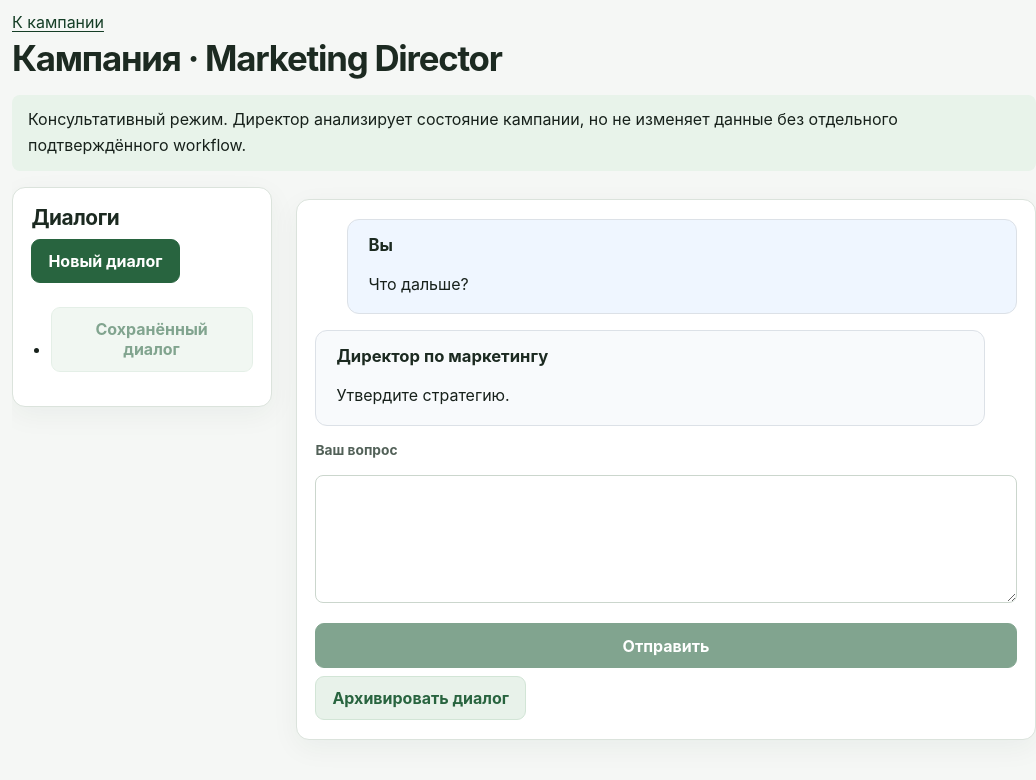
Test: archives own dialog and keeps readable history
This screenshot has width=1036, height=780.
expect the text "Утвердите стратегию." is shown: met, box [336,385,510,405]
Click the button "Архивировать диалог" at (421, 698), box [315,676,526,720]
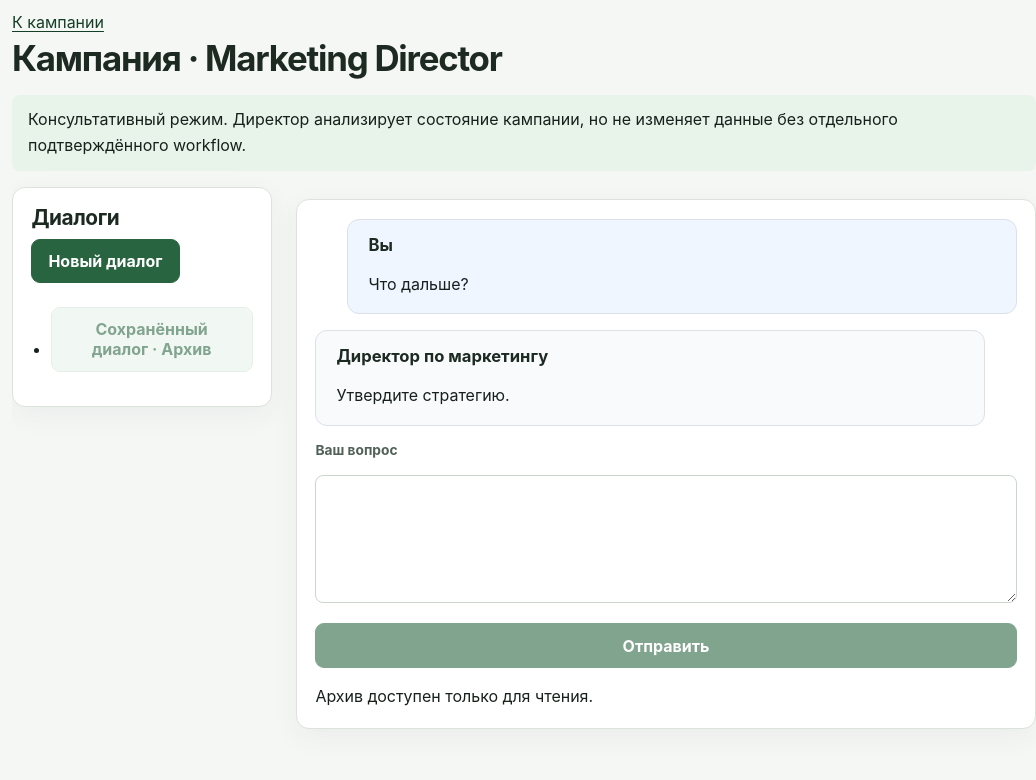
expect the text "Утвердите стратегию." is shown: met, box [336,385,510,405]
expect the text "Архив доступен только для чтения." is shown: met, box [315,686,593,706]
